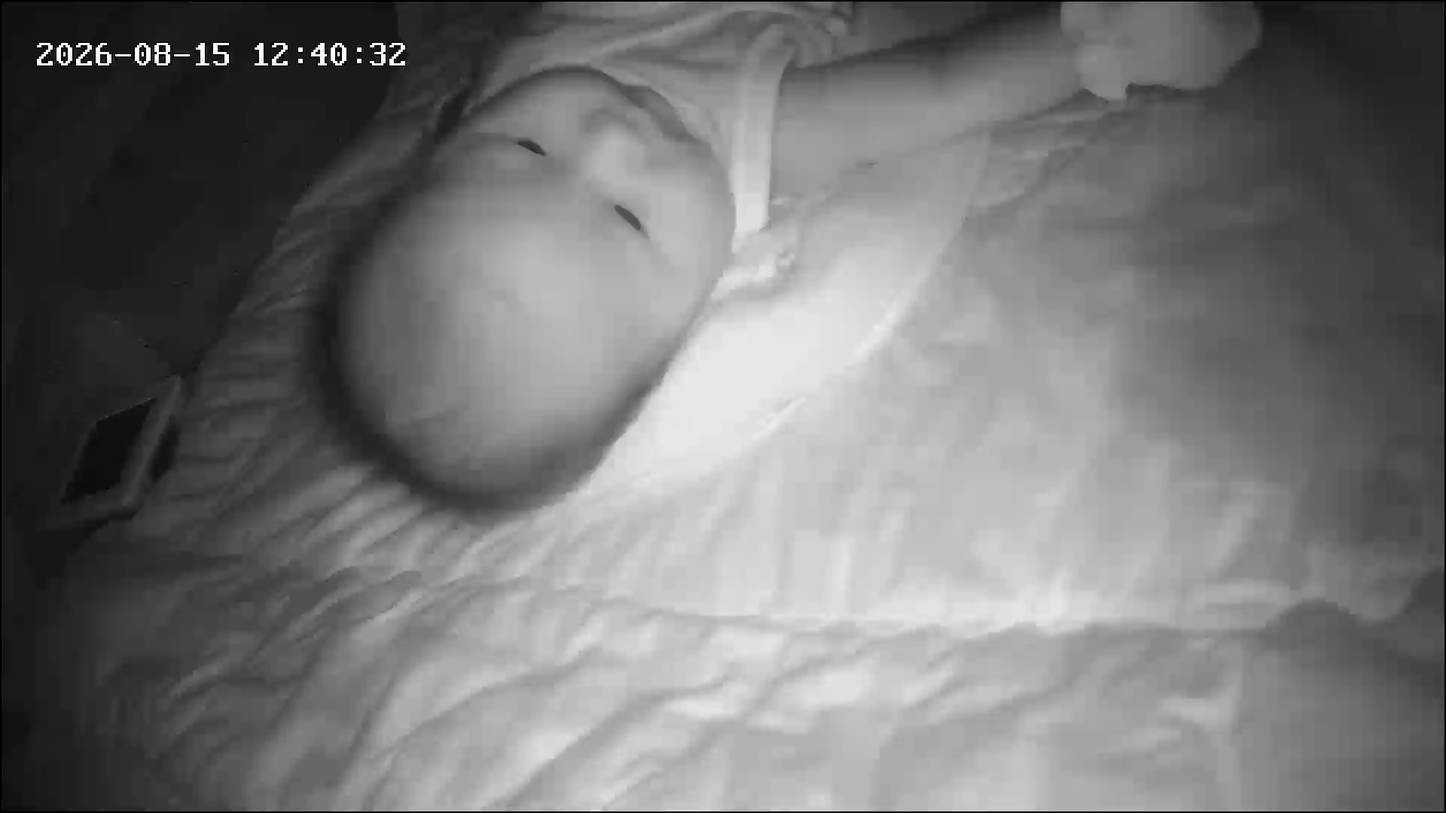baby: (248, 0, 1279, 534), (237, 5, 812, 543)
baby_face: (295, 47, 749, 530)
